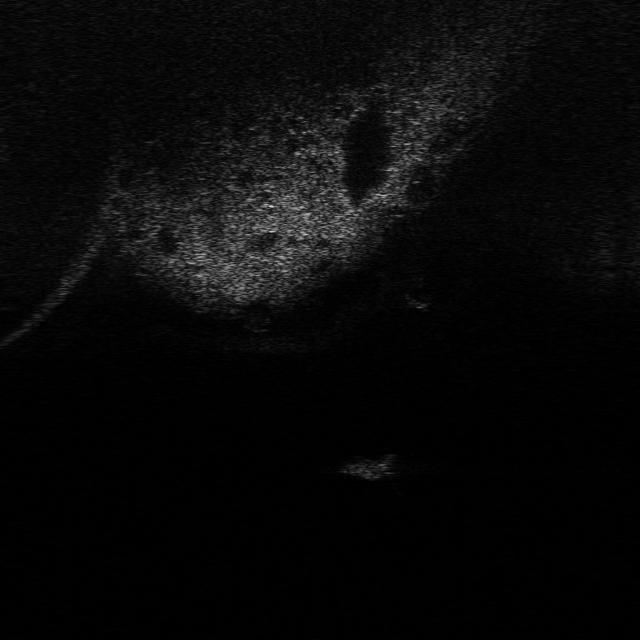ball: (401, 279, 438, 313)
cube: (333, 452, 401, 481)
